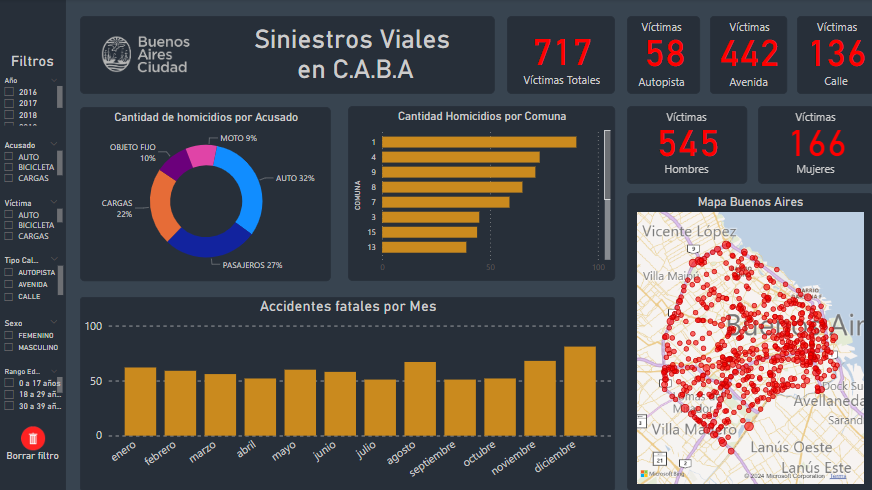

The dashboard page shown, as its layout file describes it:
{"tool":"powerbi","page":{"name":"Homicidios","canvas":[1280,720],"ordinal":0},"visuals":[{"type":"shape","box":[919,283.9,361.5,436.1],"z":0},{"type":"card","title":"Víctimas Totales","fields":{"Values":["victimas.Cant Victimas Total"]},"box":[743.4,24.9,158,114.1],"z":1000},{"type":"lineStackedColumnComboChart","title":"Accidentes fatales por Mes","fields":{"Category":["victimas.FECHA.Variación.Jerarquía de fechas.Mes"],"Y":["CountNonNull(victimas.VICTIMA)"]},"box":[118.5,436.1,782.9,283.9],"z":2000},{"type":"shape","box":[0,0,98,720],"z":3000},{"type":"slicer","fields":{"Values":["victimas.FECHA.Variación.Jerarquía de fechas.Año"]},"box":[0,107.8,98,82],"z":4000},{"type":"map","title":"Mapa Buenos Aires","fields":{"X":["homicidios.LONGITUD"],"Y":["homicidios.LATITUD"],"Size":["CountNonNull(victimas.VICTIMA)"]},"box":[929.3,285.4,341,428.8],"z":5000},{"type":"shape","box":[118.5,24.9,607.3,114.1],"z":6000},{"type":"image","box":[130.2,39.5,169.8,83.4],"z":7000},{"type":"slicer","fields":{"Values":["homicidios.TIPO_DE_CALLE"]},"box":[0,285.4,98,82],"z":9000},{"type":"clusteredBarChart","title":"Cantidad Homicidios por Comuna","fields":{"Y":["homicidios.Cant Homicidios Total"],"Category":["homicidios.COMUNA"]},"box":[510.7,156.6,390.7,256.1],"z":10000},{"type":"textbox","box":[336.6,30.7,370.2,99.5],"z":11000},{"type":"image","box":[20.5,403.4,58.5,45.4],"z":12000},{"type":"card","fields":{"Values":["homicidios.Cant Homicidios Total"]},"box":[919,24.9,106.8,114.1],"z":13000},{"type":"card","fields":{"Values":["homicidios.Cant Homicidios Total"]},"box":[1040.5,24.9,112.7,114.1],"z":14000},{"type":"card","fields":{"Values":["homicidios.Cant Homicidios Total"]},"box":[1167.8,24.9,112.7,114.1],"z":15000},{"type":"textbox","box":[913.2,105.4,112.7,38],"z":16000},{"type":"textbox","box":[1040.5,105.4,112.7,38],"z":17000},{"type":"textbox","box":[1173.7,103.9,102.4,38],"z":18000},{"type":"card","fields":{"Values":["victimas.Cant Victimas Total"]},"box":[919,156.6,175.6,114.1],"z":19000},{"type":"card","fields":{"Values":["victimas.Cant Victimas Total"]},"box":[1110.7,156.6,169.8,114.1],"z":20000},{"type":"textbox","box":[913.2,24.9,112.7,38],"z":21000},{"type":"textbox","box":[1042,24.9,112.7,38],"z":22000},{"type":"textbox","box":[1175.1,24.9,102.4,38],"z":23000},{"type":"textbox","box":[949.8,156.6,112.7,38],"z":24000},{"type":"textbox","box":[1138.5,156.6,112.7,38],"z":25000},{"type":"textbox","box":[949.8,232.7,112.7,38],"z":26000},{"type":"textbox","box":[1138.5,232.7,112.7,38],"z":27000},{"type":"slicer","fields":{"Values":["homicidios.ACUSADO"]},"box":[0,201.5,98,73.2],"z":29000},{"type":"textbox","box":[0,72.7,98,35.1],"z":31000},{"type":"textbox","box":[0,437.6,98,32.2],"z":33000},{"type":"donutChart","title":"Cantidad de homicidios por Acusado","fields":{"Category":["homicidios.ACUSADO"],"Y":["homicidios.Cant Homicidios Total"]},"box":[118.5,158,367.3,254.6],"z":34000}]}

Visuals, with their boxes in screenshot pixels (x1, y1, x2, y2), scaled from the page's 1280x720 canvas onto the 872x490 screenshot:
shape: [left=626, top=193, right=871, bottom=489]
"Víctimas Totales" card: [left=506, top=17, right=614, bottom=95]
"Accidentes fatales por Mes" lineStackedColumnComboChart: [left=81, top=297, right=614, bottom=489]
shape: [left=0, top=0, right=67, bottom=489]
slicer - victimas.FECHA.Variación.Jerarquía de fechas.Año: [left=0, top=73, right=67, bottom=129]
"Mapa Buenos Aires" map: [left=633, top=194, right=865, bottom=486]
shape: [left=81, top=17, right=494, bottom=95]
image: [left=89, top=27, right=204, bottom=84]
slicer - homicidios.TIPO_DE_CALLE: [left=0, top=194, right=67, bottom=250]
"Cantidad Homicidios por Comuna" clusteredBarChart: [left=348, top=107, right=614, bottom=281]
textbox: [left=229, top=21, right=482, bottom=89]
image: [left=14, top=275, right=54, bottom=305]
card - homicidios.Cant Homicidios Total: [left=626, top=17, right=699, bottom=95]
card - homicidios.Cant Homicidios Total: [left=709, top=17, right=786, bottom=95]
card - homicidios.Cant Homicidios Total: [left=796, top=17, right=871, bottom=95]
textbox: [left=622, top=72, right=699, bottom=98]
textbox: [left=709, top=72, right=786, bottom=98]
textbox: [left=800, top=71, right=869, bottom=97]
card - victimas.Cant Victimas Total: [left=626, top=107, right=746, bottom=184]
card - victimas.Cant Victimas Total: [left=757, top=107, right=871, bottom=184]
textbox: [left=622, top=17, right=699, bottom=43]
textbox: [left=710, top=17, right=787, bottom=43]
textbox: [left=801, top=17, right=870, bottom=43]
textbox: [left=647, top=107, right=724, bottom=132]
textbox: [left=776, top=107, right=852, bottom=132]
textbox: [left=647, top=158, right=724, bottom=184]
textbox: [left=776, top=158, right=852, bottom=184]
slicer - homicidios.ACUSADO: [left=0, top=137, right=67, bottom=187]
textbox: [left=0, top=49, right=67, bottom=73]
textbox: [left=0, top=298, right=67, bottom=320]
"Cantidad de homicidios por Acusado" donutChart: [left=81, top=108, right=331, bottom=281]
